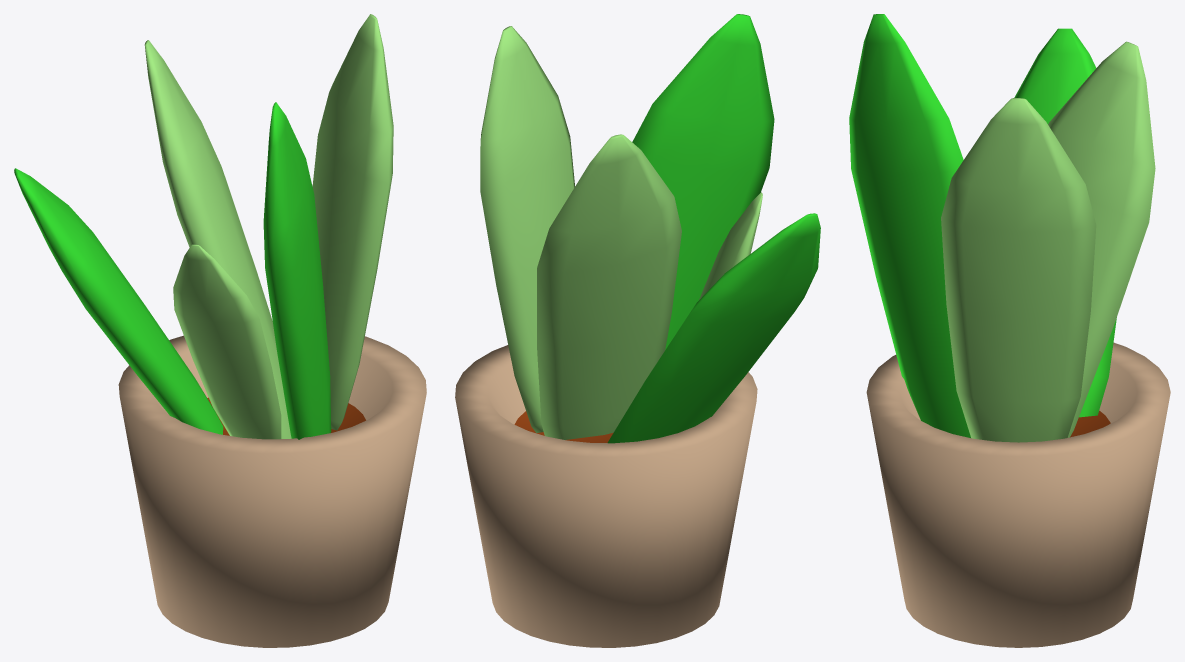
File: roślinka.fbx
3 views of the same model, side by side, from view 1: azimuth 30°, elevation 25°; view 2: azimuth 150°, elevation 25°; view 3: azimuth 270°, elevation 25° (orthographic).
Parts seen in each view (by area): view 1: Cylinder.005, Cylinder; view 2: Cylinder.005, Cylinder; view 3: Cylinder.005, Cylinder.
Part boxes in pixels (<box>): Cylinder.005: <box>14,14,393,439</box>; Cylinder: <box>118,335,426,647</box>; Cylinder.005: <box>480,14,820,443</box>; Cylinder: <box>455,345,757,647</box>; Cylinder.005: <box>849,14,1155,442</box>; Cylinder: <box>866,342,1170,647</box>.
Size of the model in its own units: 251 by 366 by 192.
